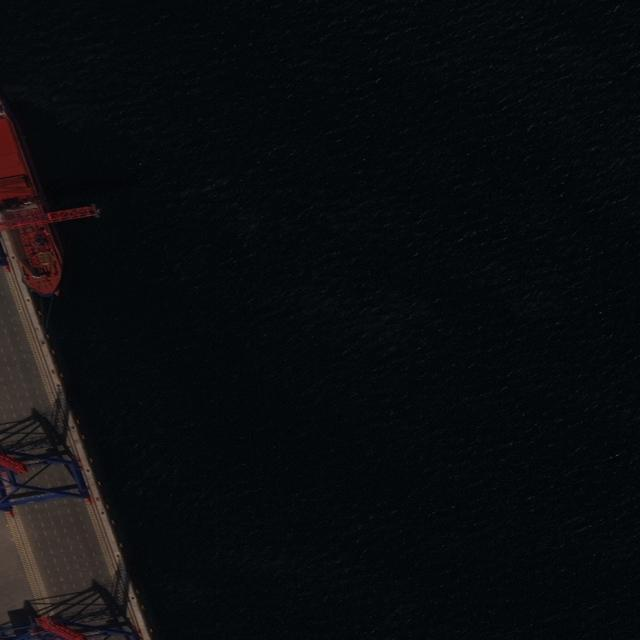Cargo: (1, 98, 65, 298)
